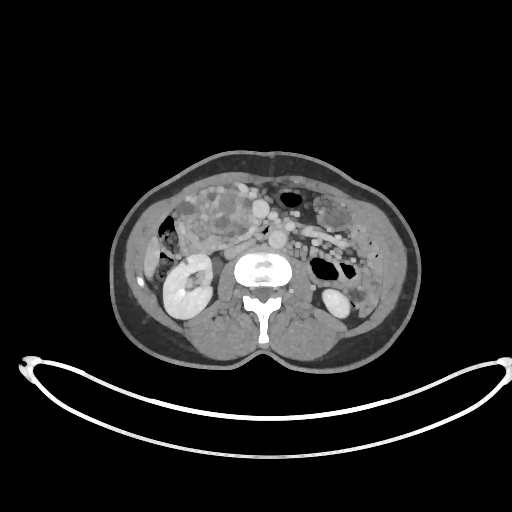Lesion: (181, 257, 190, 270)
